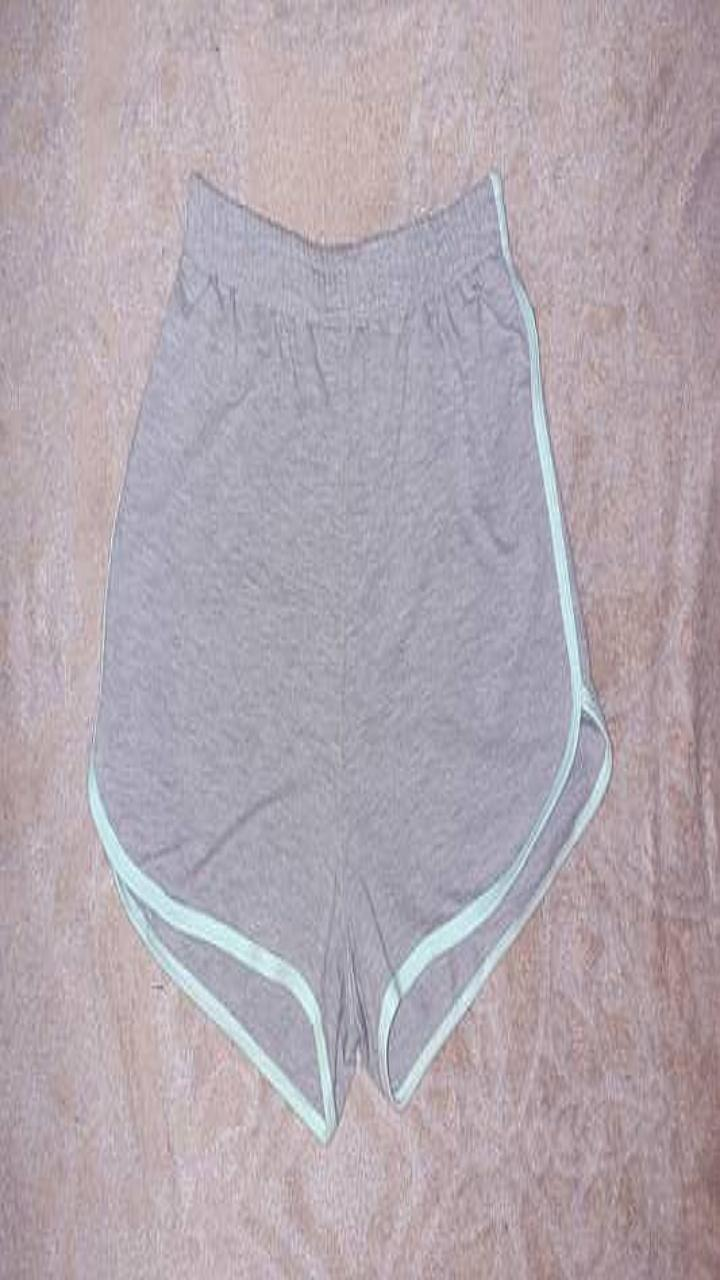Shorts: (88, 171, 611, 1140)
